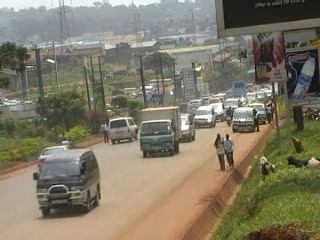Car: (34, 141, 75, 175), (191, 103, 217, 132), (178, 110, 198, 144), (203, 100, 223, 120)
Motorcycle: (222, 103, 234, 126), (60, 135, 74, 148)
